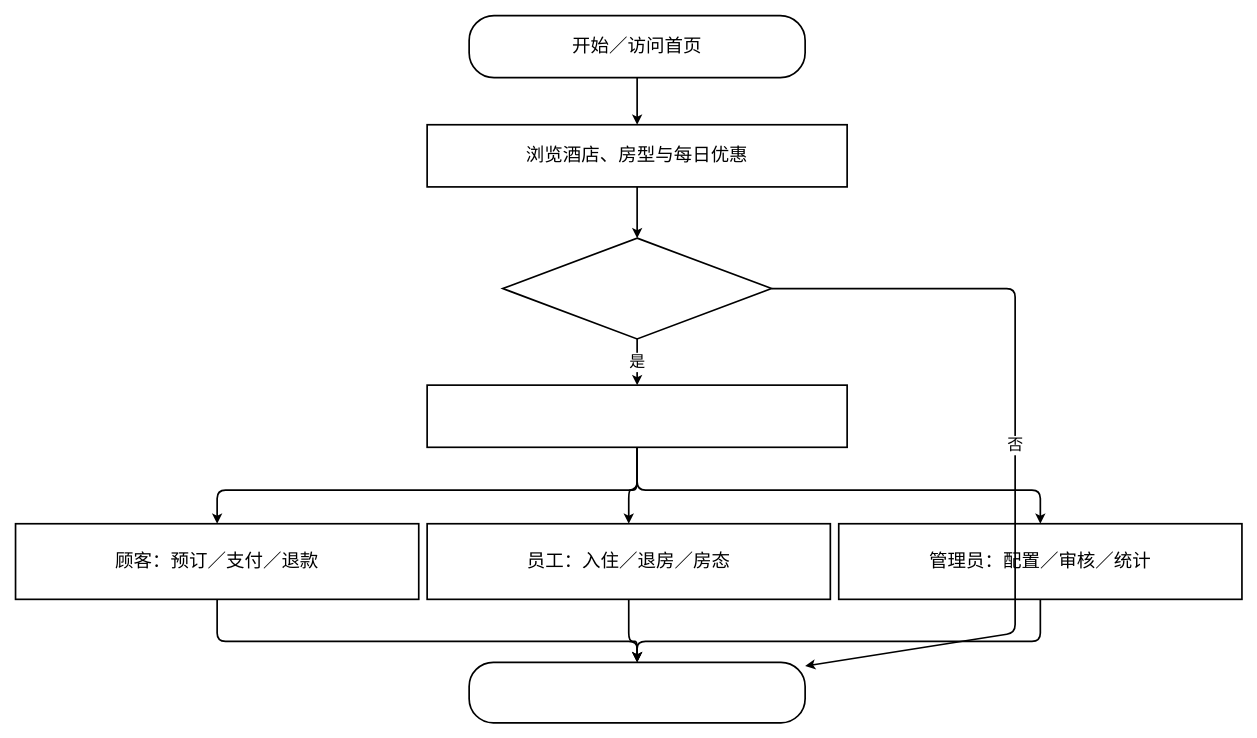
Some shapes in this 1257 by 738 pixel diagram are drawn without their labels. The shapes that lost their labels are listed below. From the top down, each one's centre as x and y in pixels, then its label:
(636,288): 需要登录操作？
(637,416): 验证码与身份验证
(637,692): 返回首页或退出
